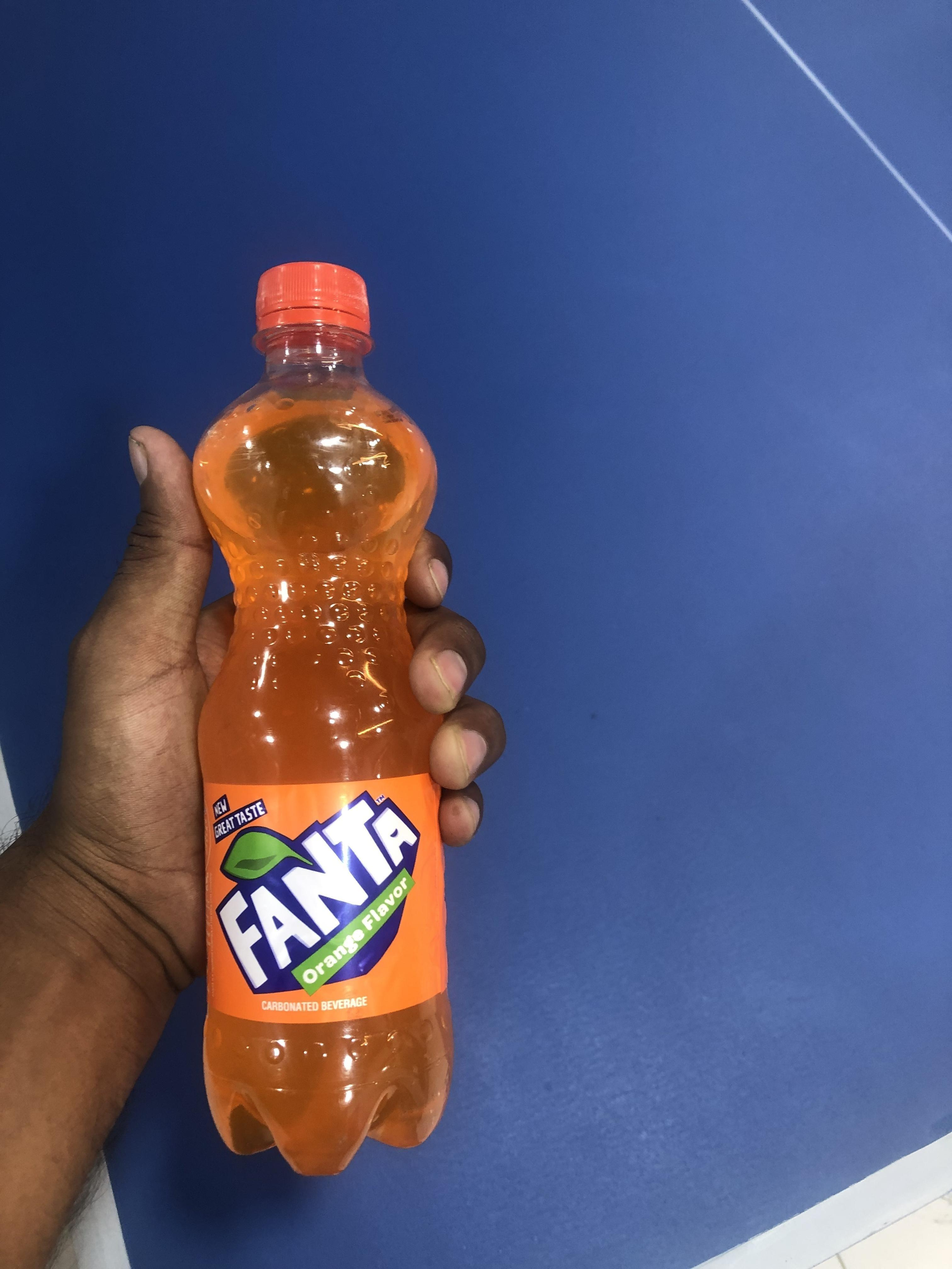bottle-plastic: (193, 256, 457, 1186)
